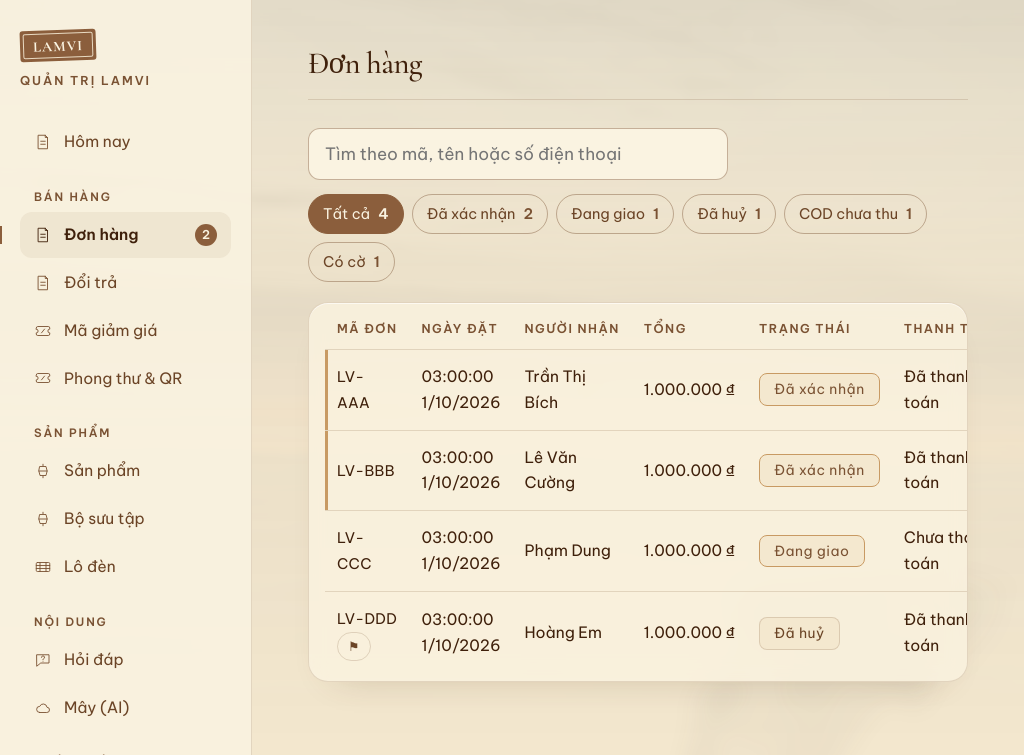
Test case: OrdersPage — chip và tìm kiếm › tìm theo mã, tên hoặc số điện thoại (không phân biệt hoa thường)
The width and height of the screenshot is (1024, 755).
Later steps or results of the test are not shown.
Expected: the text "LV-AAA" is shown, [337,367,370,412]
Type "lv-bbb" into the search field labelled "Tìm theo mã, tên hoặc số điện thoại".
click(518, 154); type("lv-bbb")  # box [308,128,728,180]
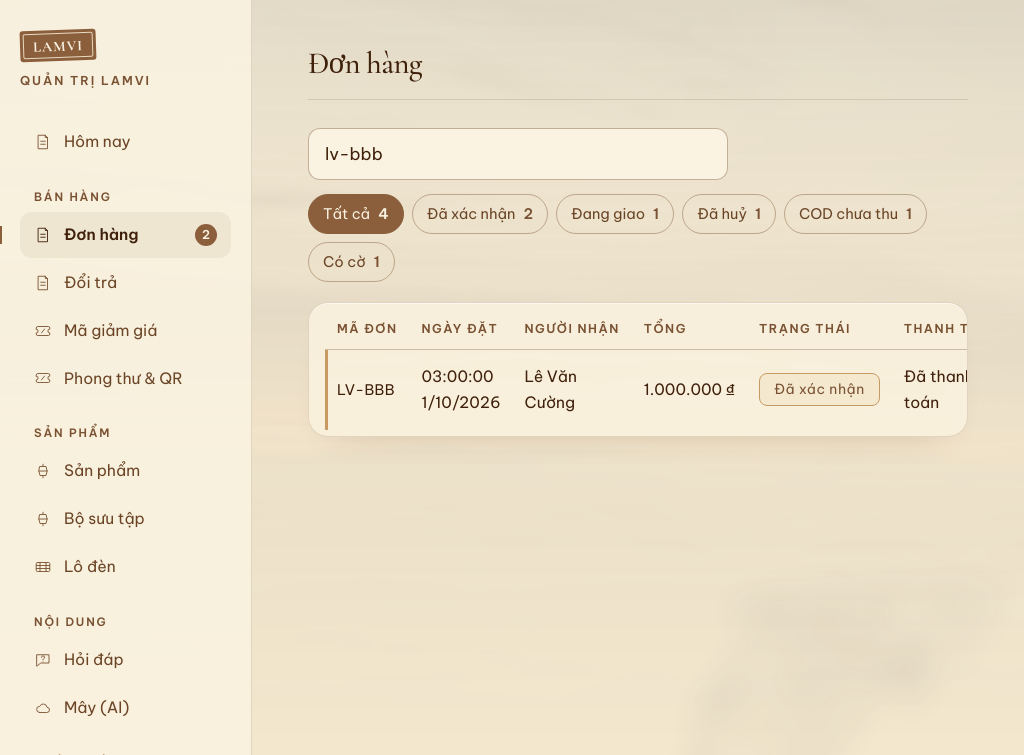
Replace the text in the search field named "Tìm theo mã, tên hoặc số điện thoại" with "bích" at (518, 154), box [308,128,728,180]
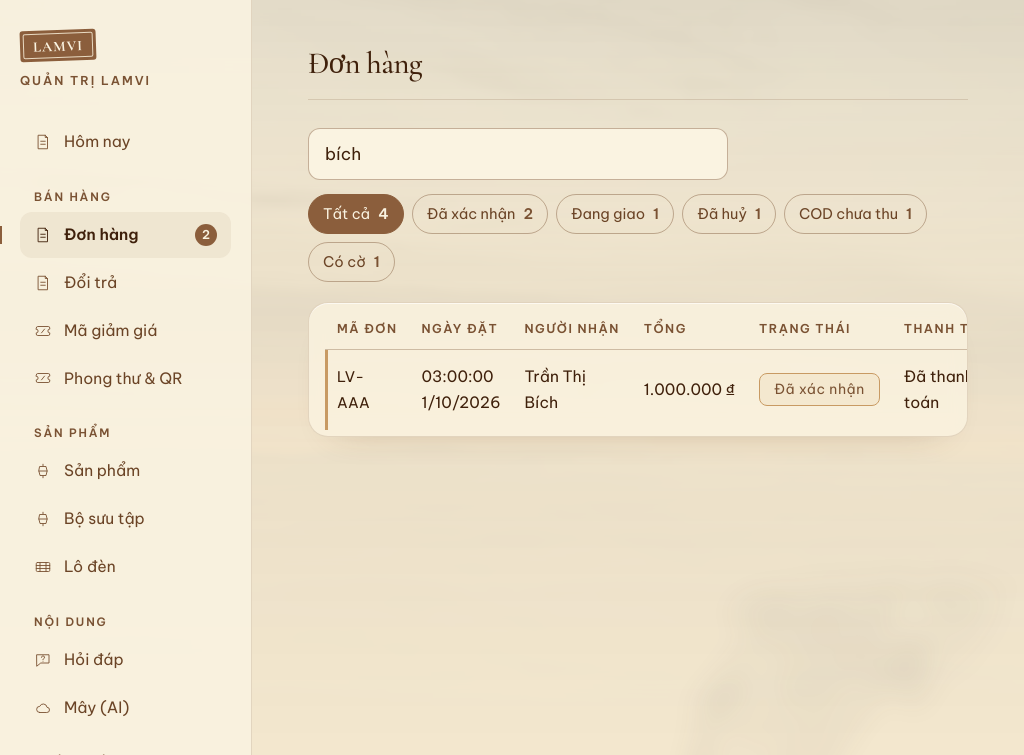
Replace the text in the search field named "Tìm theo mã, tên hoặc số điện thoại" with "0987" at (518, 154), box [308,128,728,180]
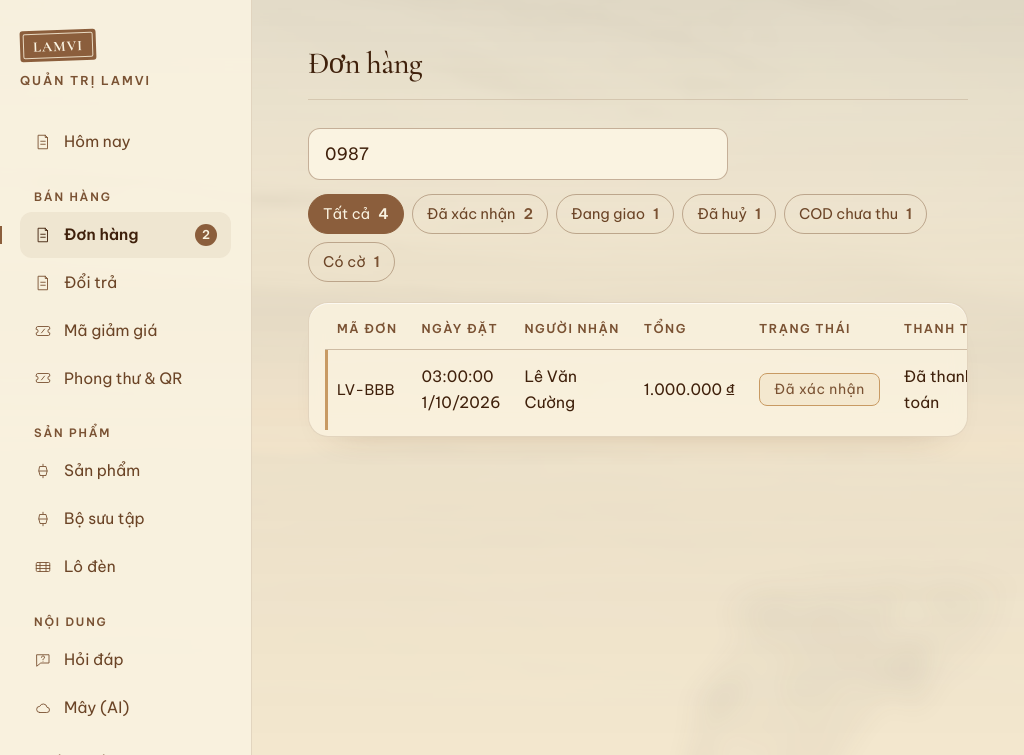
Replace the text in the search field named "Tìm theo mã, tên hoặc số điện thoại" with "không có" at (518, 154), box [308,128,728,180]
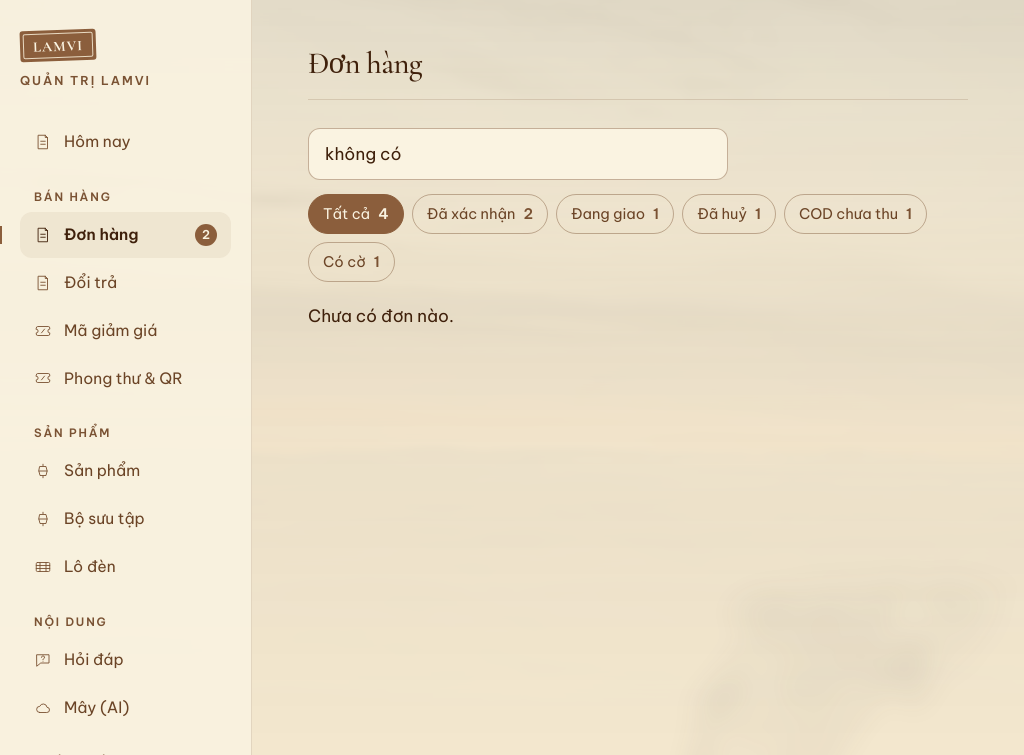
Result: the text "Chưa có đơn nào." is shown at [308,305,454,327]
